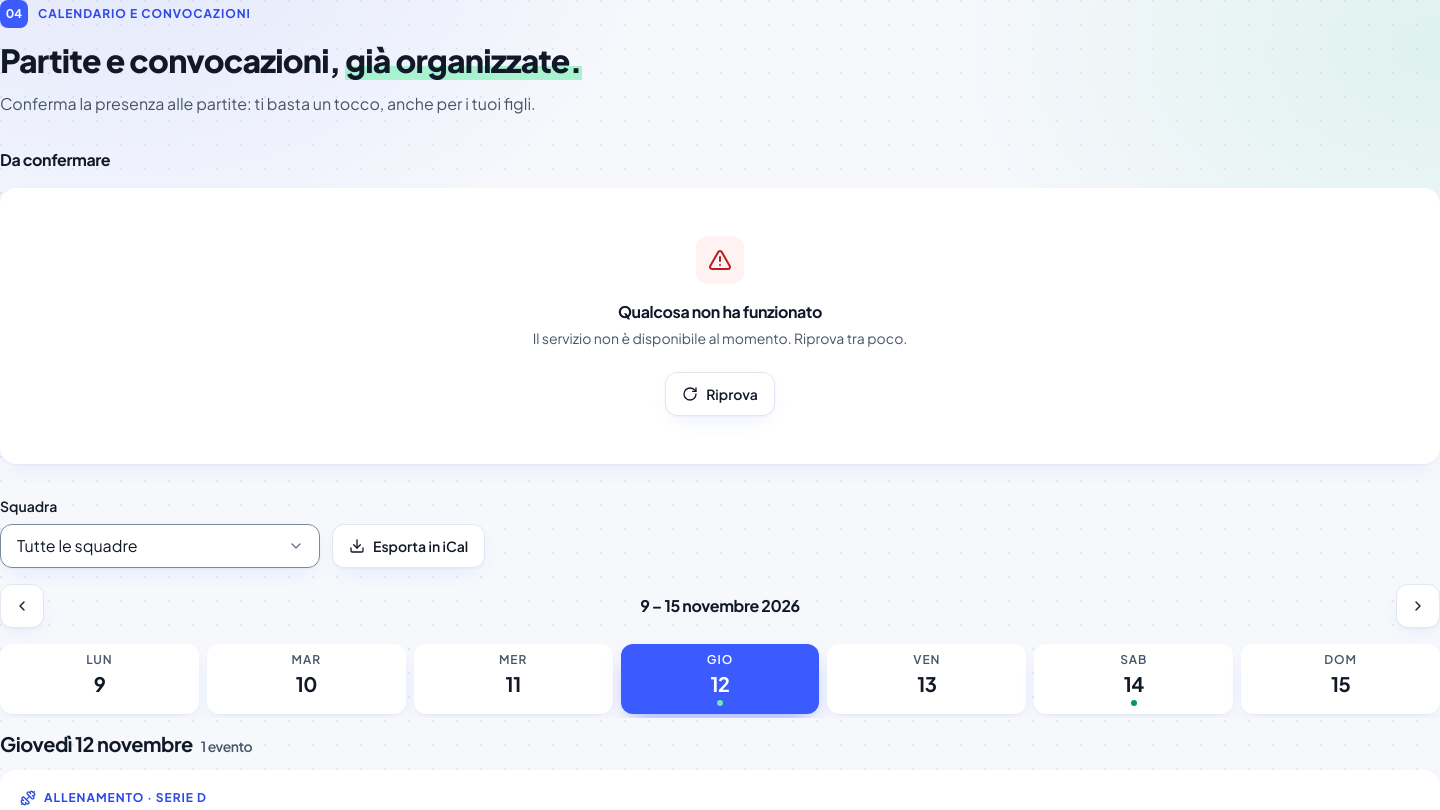
Test case: convocations of an athlete or a guardian › says when nothing waits for an answer, and shows an error with retry
Click the button "Riprova": [720, 394] box [665,372,775,416]
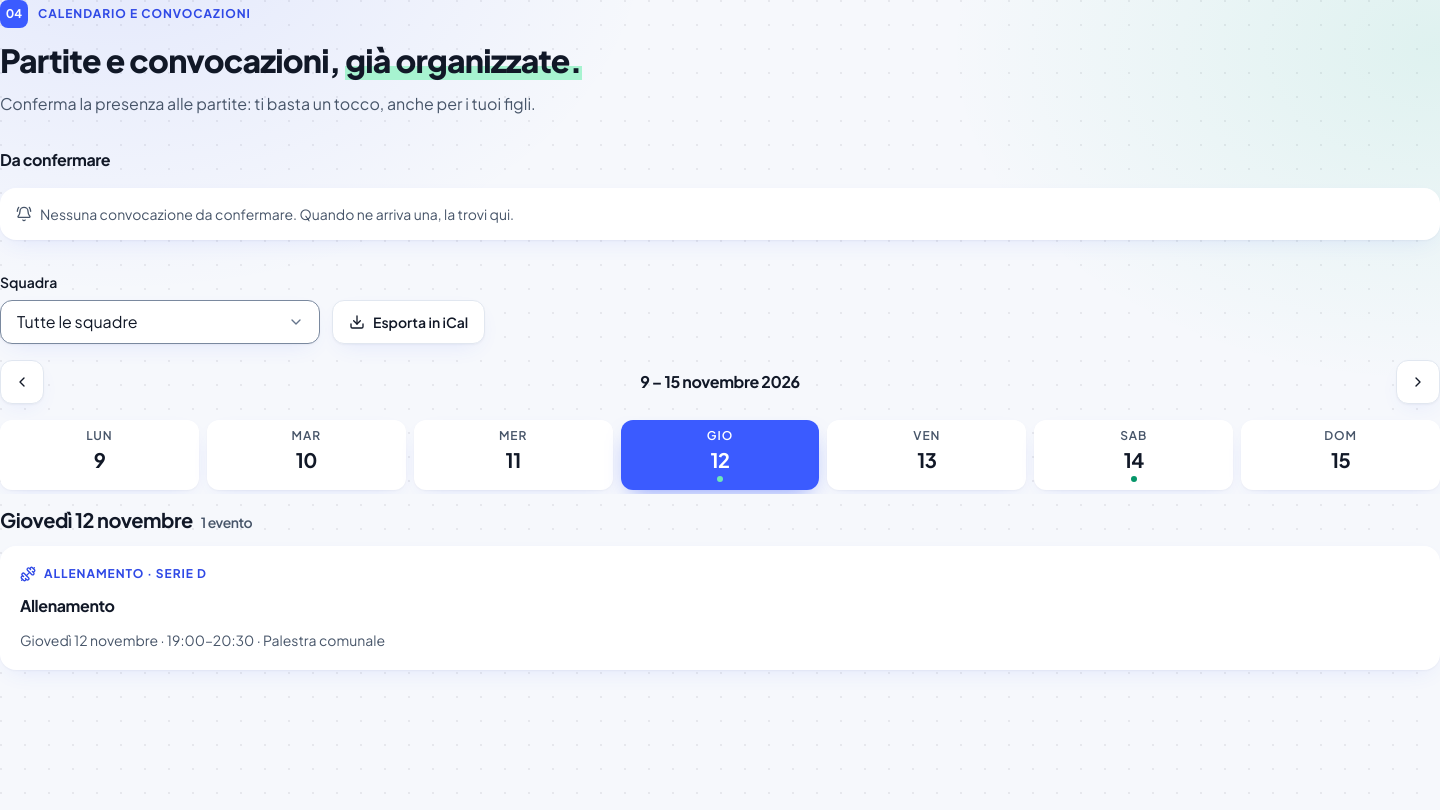
Check: the text "Nessuna convocazione da confermare" is shown, box [40,205,514,223]
